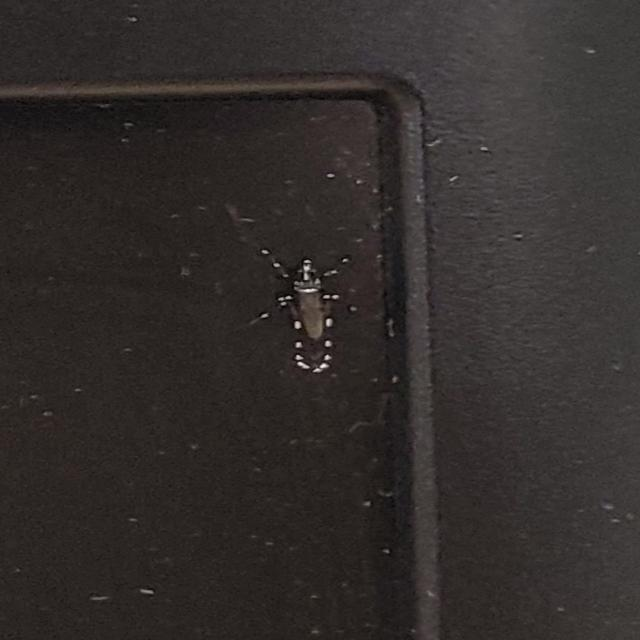albopictus: (231, 238, 364, 374)
